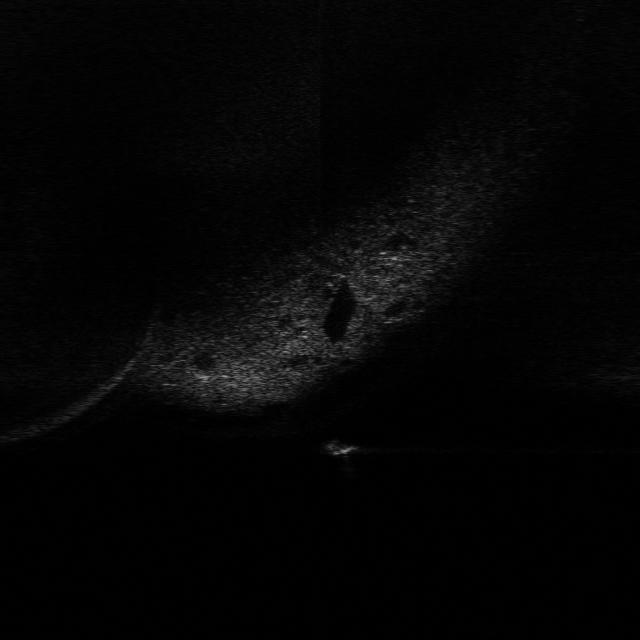cube: (318, 434, 364, 462)
